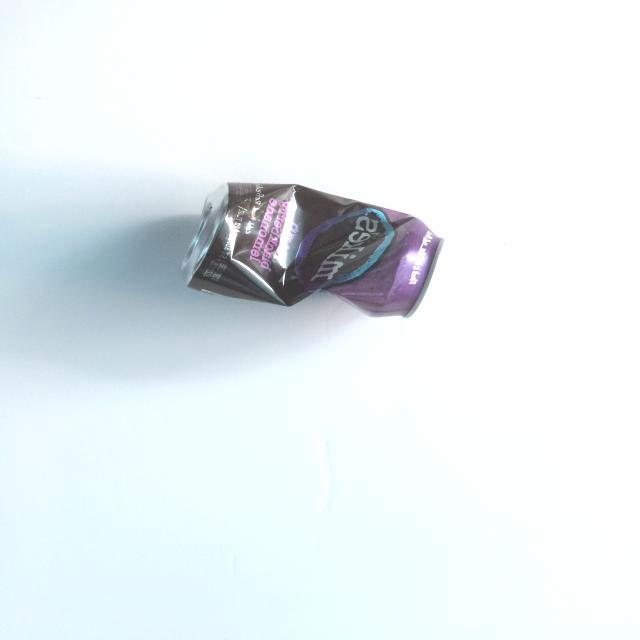metal: (160, 174, 457, 328)
